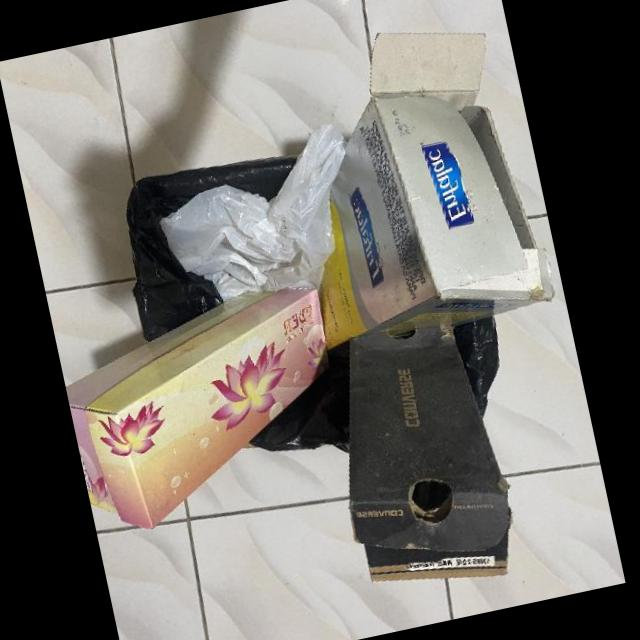carton: (318, 30, 555, 350), (65, 286, 326, 529), (347, 324, 510, 582)
tui_ni_long: (159, 124, 346, 303)
